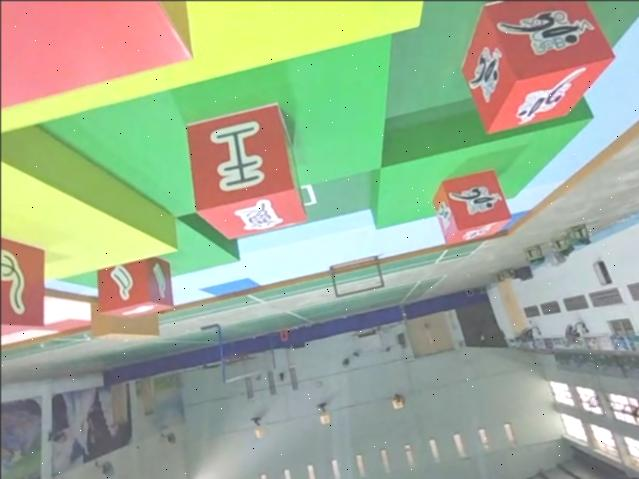R1: (459, 0, 616, 138), (433, 169, 513, 245)
R2 Fake: (188, 103, 306, 240)
R2 Real: (97, 255, 176, 316), (0, 233, 43, 341)
